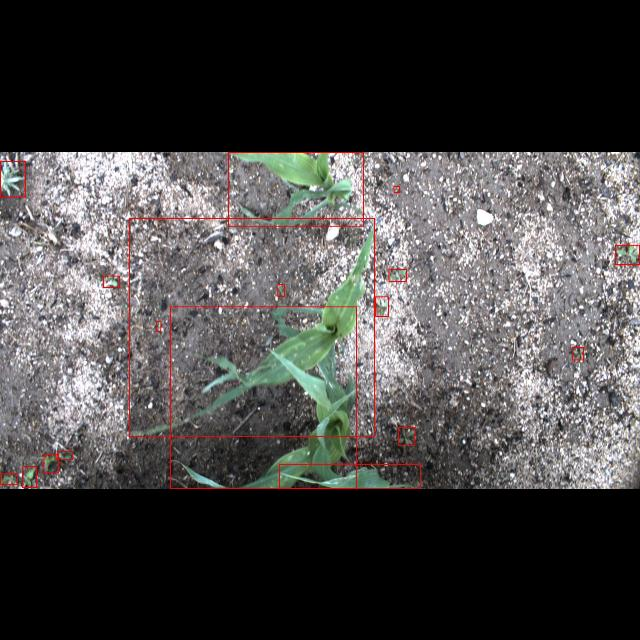crop: (130, 218, 374, 437), (170, 306, 356, 488), (228, 151, 364, 225), (280, 464, 420, 488)
weed: (1, 160, 26, 196), (615, 244, 639, 264), (23, 467, 37, 488), (398, 427, 414, 445), (44, 453, 58, 472), (389, 268, 407, 282), (376, 296, 388, 316), (103, 275, 119, 287), (1, 474, 18, 484), (572, 346, 584, 359), (57, 451, 73, 459), (278, 284, 284, 296), (156, 321, 162, 331), (394, 186, 400, 192)
